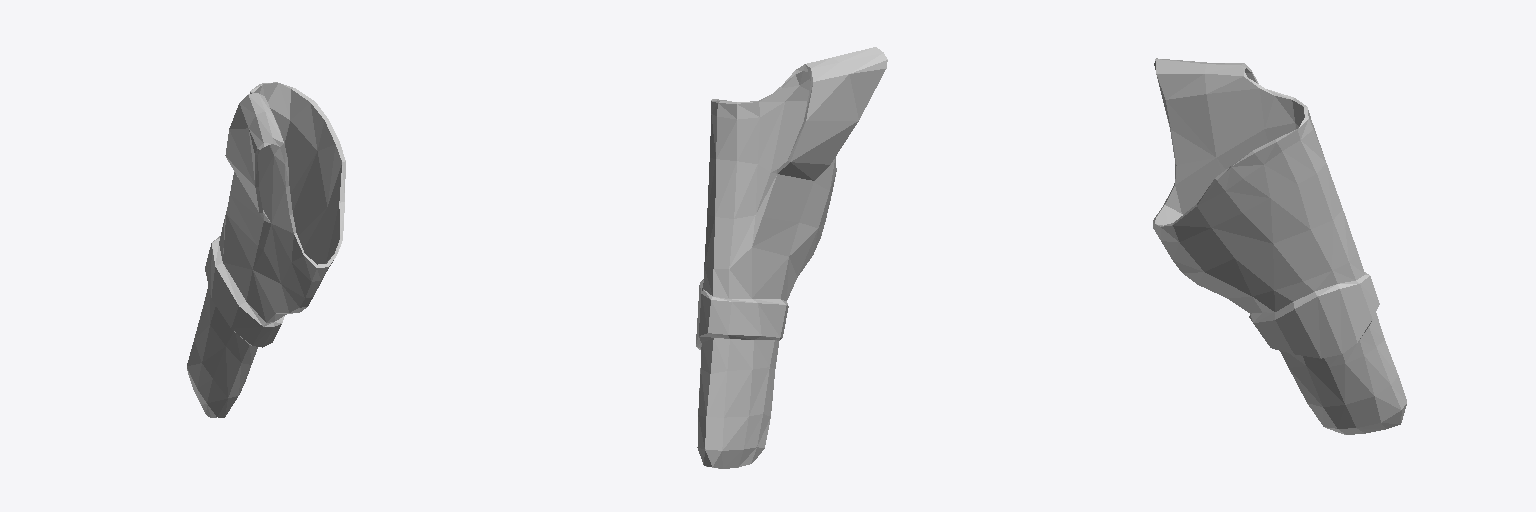
The model's file is belt.obj.
3 views of the same model, side by side, from view 1: azimuth 30°, elevation 25°; view 2: azimuth 150°, elevation 25°; view 3: azimuth 270°, elevation 25° (orthographic).
Parts seen in each view (by area): view 1: QuatermainProps; view 2: QuatermainProps; view 3: QuatermainProps.
Part boxes in pixels (bbox=[...]): QuatermainProps: bbox=[187, 82, 345, 417]; QuatermainProps: bbox=[696, 47, 887, 468]; QuatermainProps: bbox=[1153, 58, 1406, 434].
Size of the model in its own units: 0.1989 by 0.5781 by 0.367.